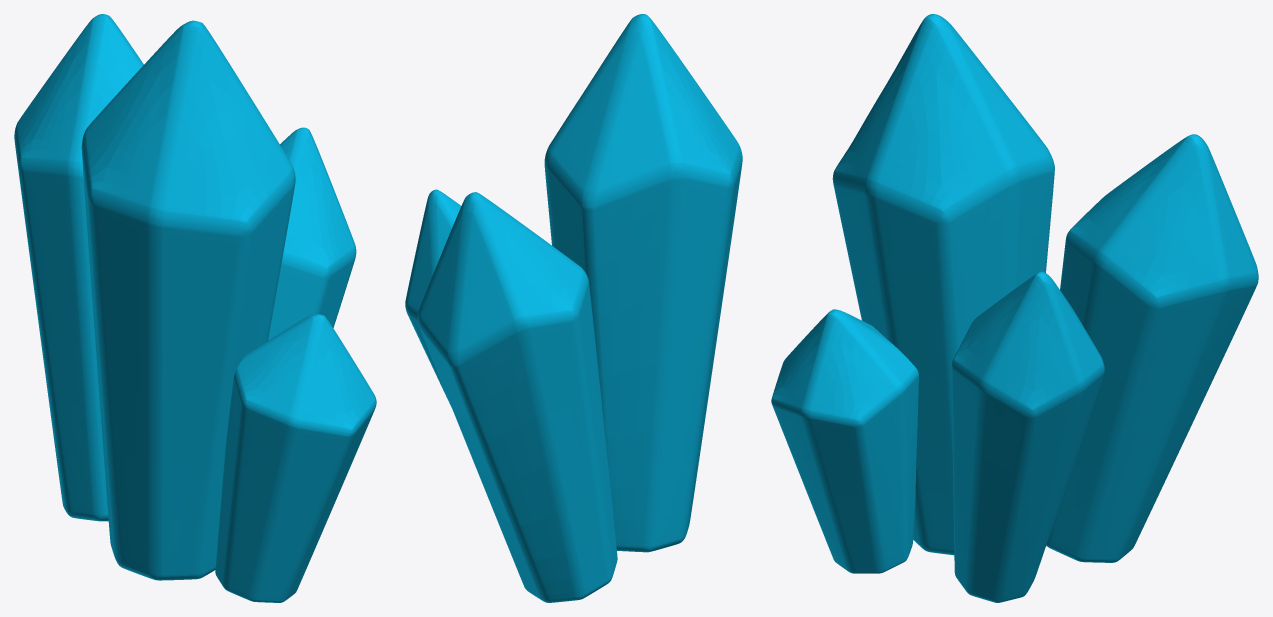
The model's file is kristalle_3.fbx.
3 renders of one model, left to right at view 1: azimuth 30°, elevation 25°; view 2: azimuth 150°, elevation 25°; view 3: azimuth 270°, elevation 25°, orthographic. The views are drawn at different scales.
Parts seen in each view (by area): view 1: Kristall, Kristall.003, Kristall.002, Kristall.001; view 2: Kristall, Kristall.002, Kristall.001; view 3: Kristall, Kristall.002, Kristall.001, Kristall.003.
Part boxes in pixels (x1,y1,x2,y2): Kristall: (81, 20, 295, 580); Kristall.003: (215, 314, 376, 602); Kristall.002: (14, 14, 143, 521); Kristall.001: (268, 127, 356, 340); Kristall: (544, 14, 742, 552); Kristall.002: (417, 192, 617, 602); Kristall.001: (405, 189, 461, 405); Kristall: (832, 14, 1054, 555); Kristall.002: (1046, 134, 1258, 562); Kristall.001: (951, 271, 1104, 602); Kristall.003: (771, 309, 918, 573).
Bounding box in the file's own units: 23.52 × 42.77 × 34.66.
